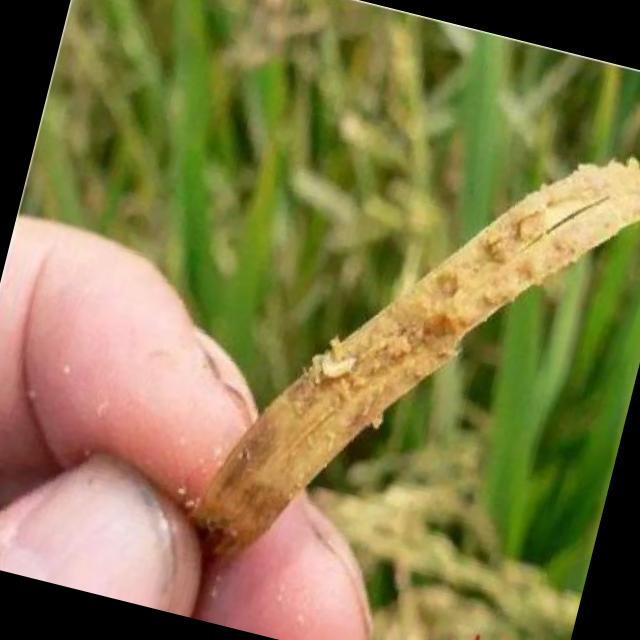whorl-maggot: (310, 342, 361, 388)
